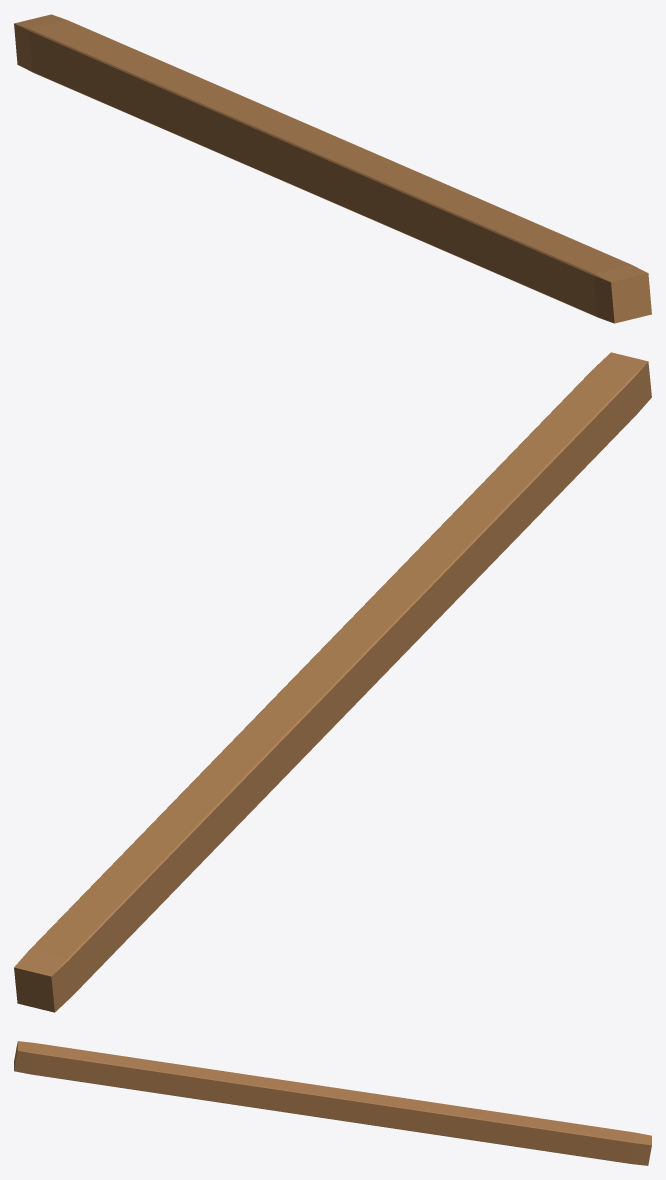
Rendered from Plank angled 1.fbx.
The picture shows the model from 3 angles, top to bottom: view 1: azimuth 30°, elevation 25°; view 2: azimuth 150°, elevation 25°; view 3: azimuth 270°, elevation 25°; orthographic projection. The views are drawn at different scales.
Parts seen in each view (by area): view 1: Wooden_plank_roof1; view 2: Wooden_plank_roof1; view 3: Wooden_plank_roof1.
Boxes of the visible parts, left/top/right/bottom form: Wooden_plank_roof1: left=14, top=14, right=651, bottom=323; Wooden_plank_roof1: left=14, top=352, right=651, bottom=1012; Wooden_plank_roof1: left=14, top=1041, right=651, bottom=1165.
Size of the model in its own units: 36.55 by 190 by 955.
